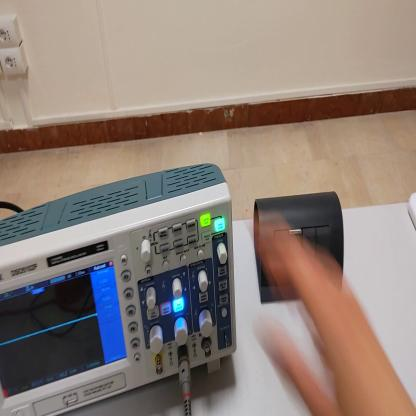hand: (252, 213, 415, 416)
oscilloscope: (1, 163, 238, 416)
